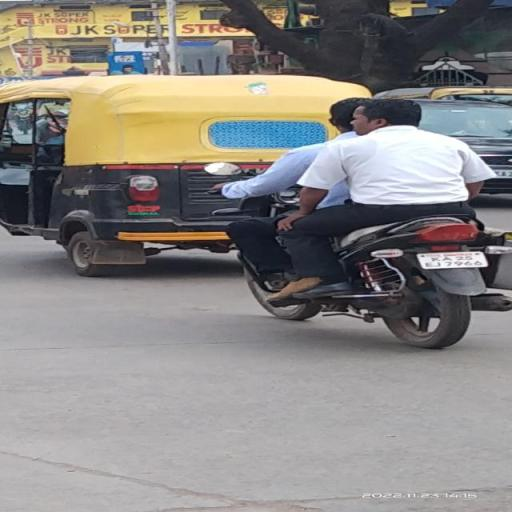bike: (199, 78, 512, 350)
numberplate: (416, 250, 486, 269)
withouthelmet: (352, 99, 422, 127), (331, 99, 356, 132)
